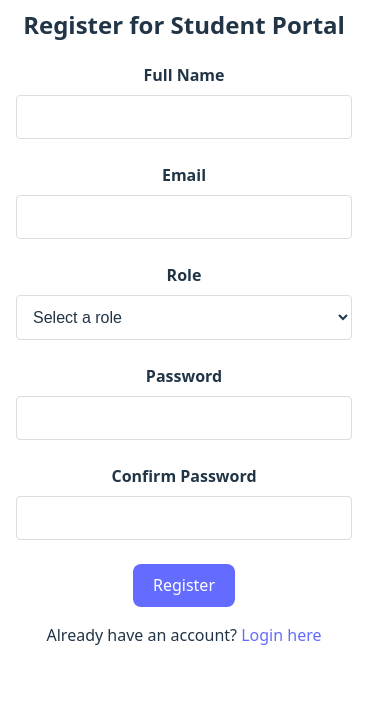
RegisterPage › should handle registration error
The image size is (369, 714).
Note: Fill out valid form
Type "John Student" into the field labelled "Full Name" at (184, 117), box [16,95,352,139]
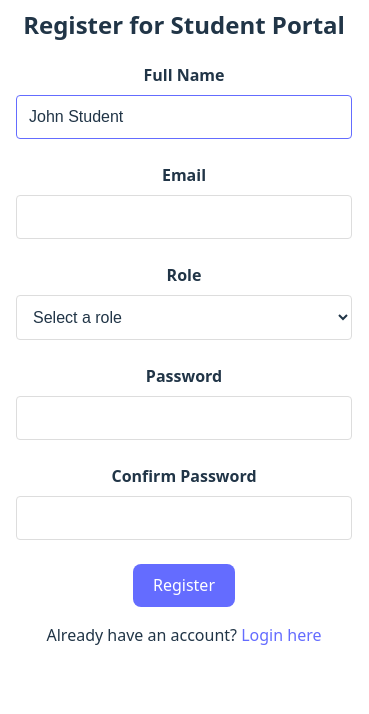
Type "existing@test.com" into the field labelled "Email" at (184, 217), box [16,195,352,239]
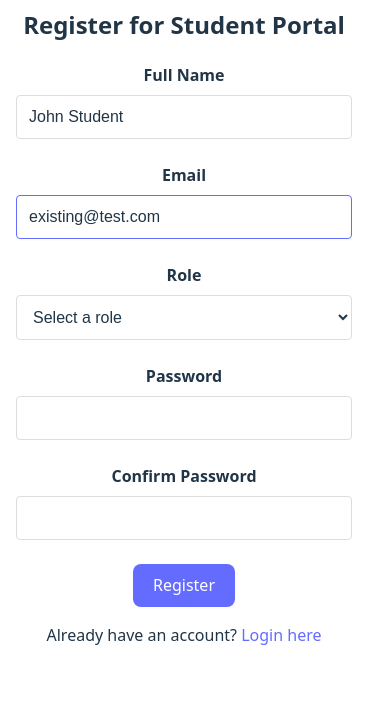
Select "Student" in the dropdown labelled "Role" at (184, 317), box [16,295,352,340]
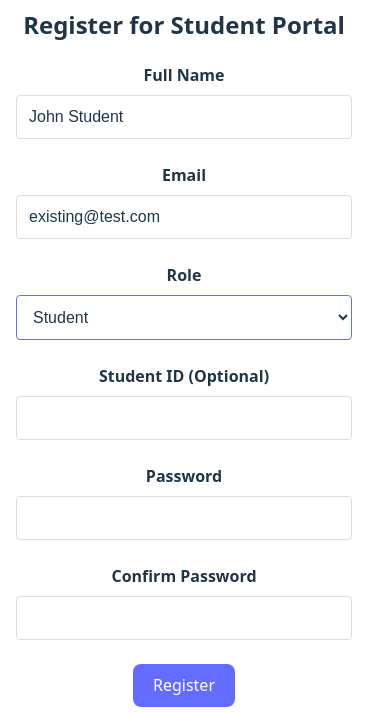
Type "password123" into the password field labelled "Password" at (184, 518), box [16,496,352,540]
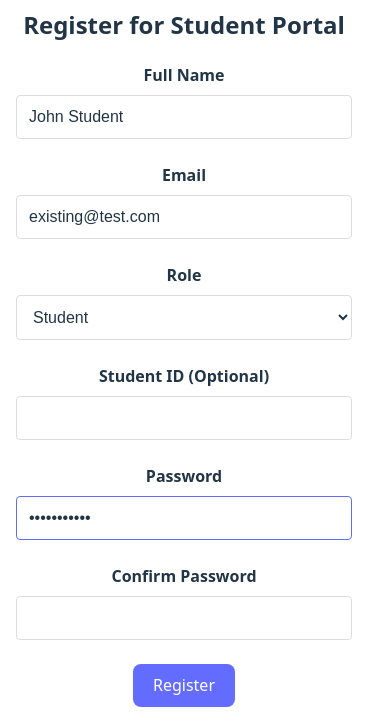
Type "password123" into the password field labelled "Confirm Password" at (184, 618), box [16,596,352,640]
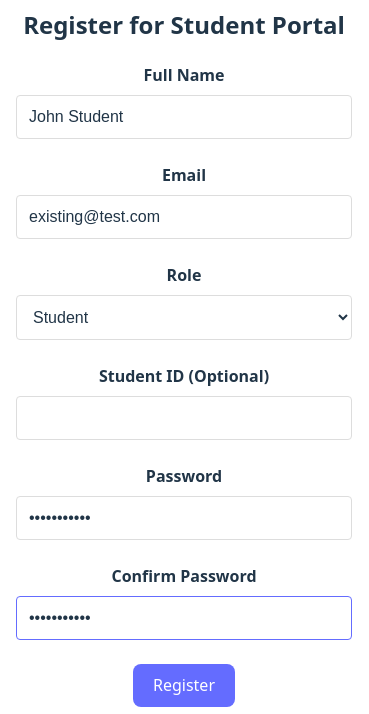
Click the button "Register" at (184, 685), box [133,664,235,707]
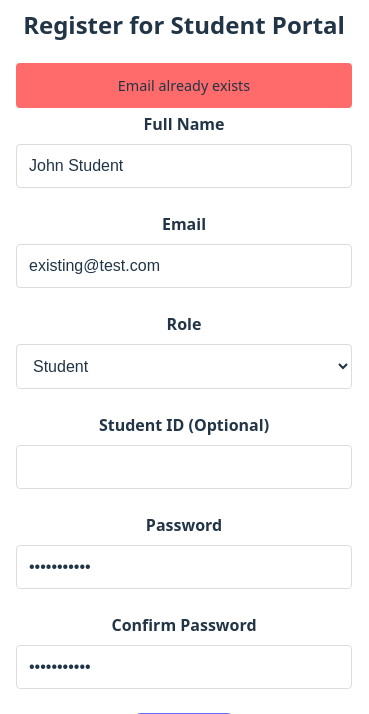
expect the text "Email already exists" is shown: met, box [16,63,352,108]
